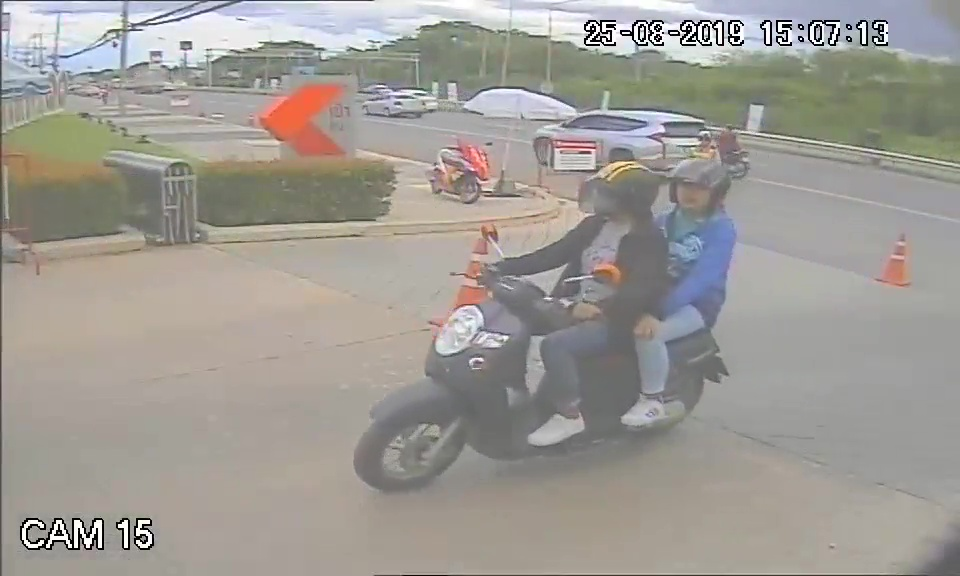motorcycle: (354, 276, 733, 501)
